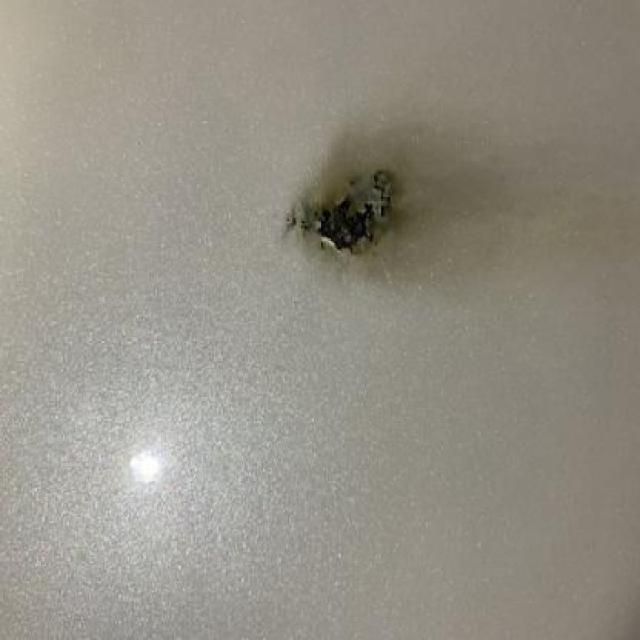crack: (286, 167, 400, 252)
